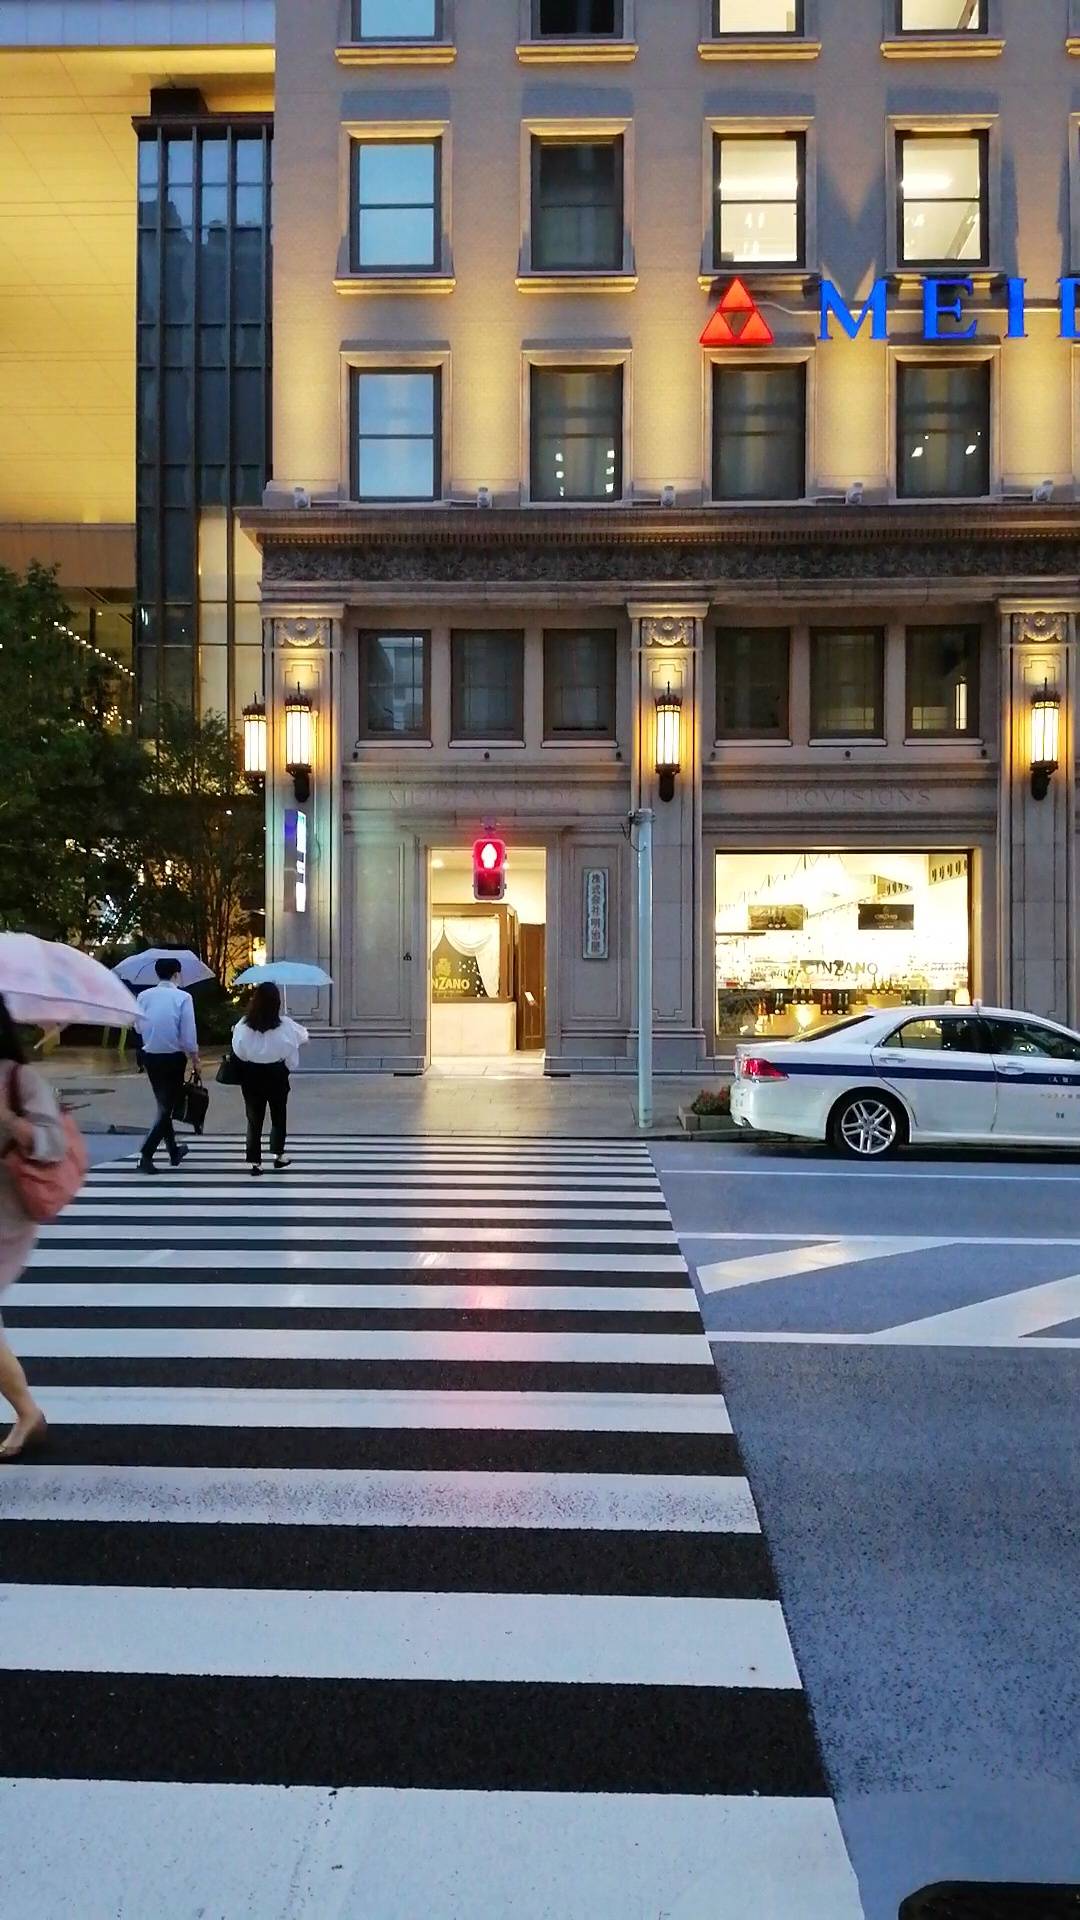red: (472, 836, 505, 903)
